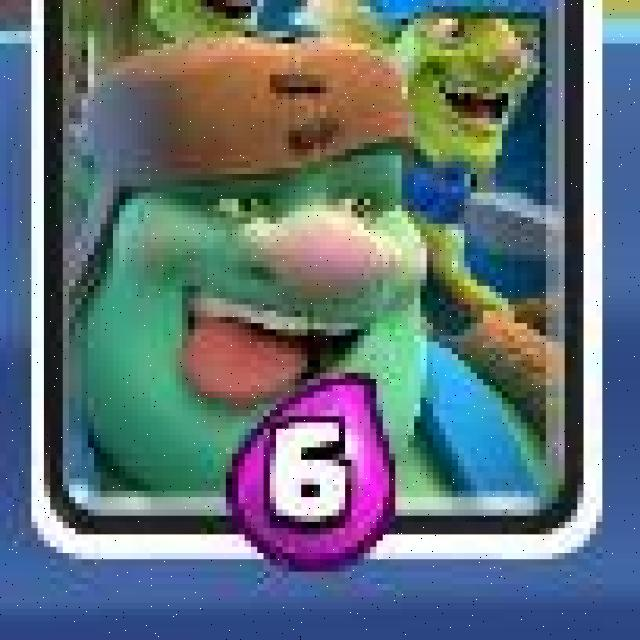Goblin_Giant: (31, 0, 602, 555)
